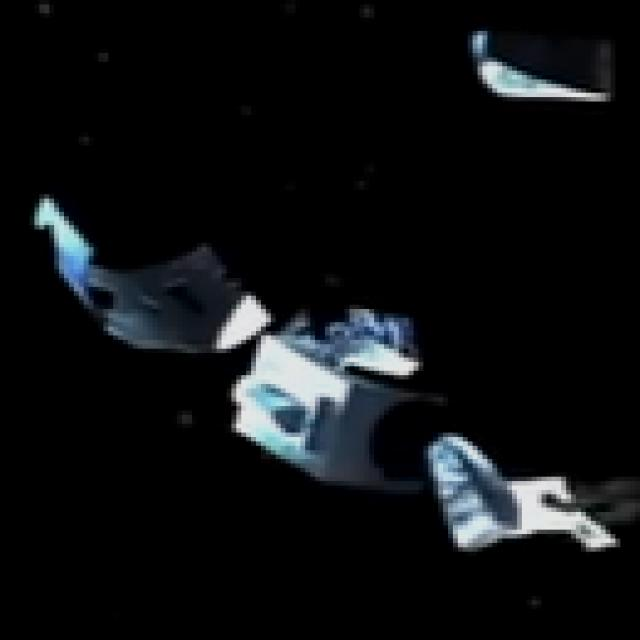large_debris: (21, 183, 639, 561)
medium_debris: (455, 25, 628, 116)
